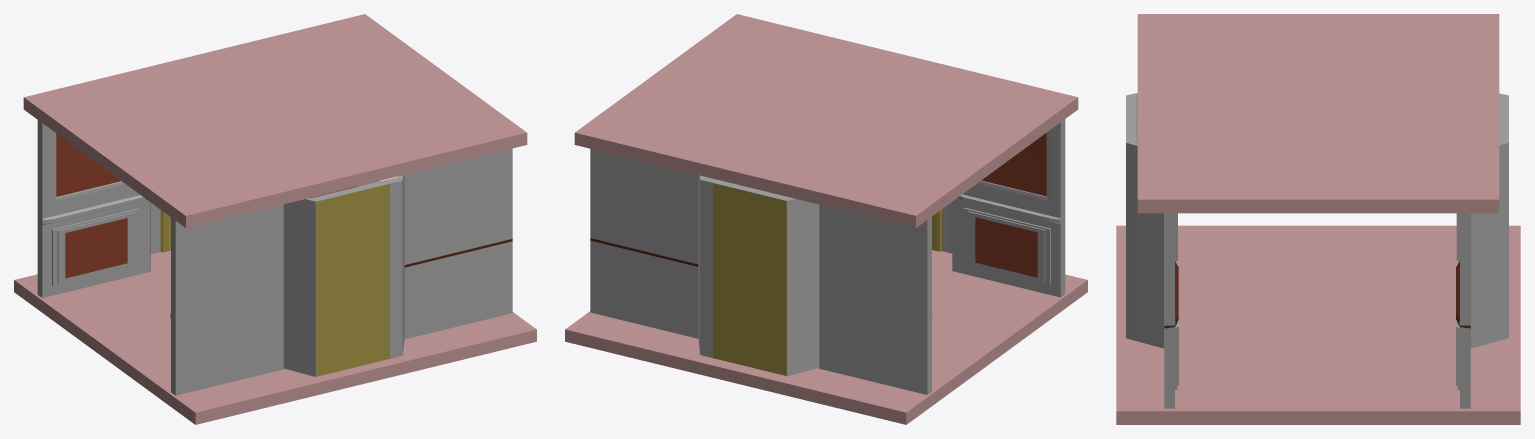
Rendered from hallcrosssection.fbx.
3 renders of one model, left to right at view 1: azimuth 30°, elevation 25°; view 2: azimuth 150°, elevation 25°; view 3: azimuth 270°, elevation 25°, orthographic. The views are drawn at different scales.
Visible parts, largest first — view 1: polySurface6; view 2: polySurface6; view 3: polySurface6.
Boxes of the visible parts, bbox=[...] form: polySurface6: bbox=[14, 14, 536, 424]; polySurface6: bbox=[565, 14, 1087, 424]; polySurface6: bbox=[1116, 14, 1520, 424].
Size of the model in its own units: 29.17 by 16.76 by 26.85.
